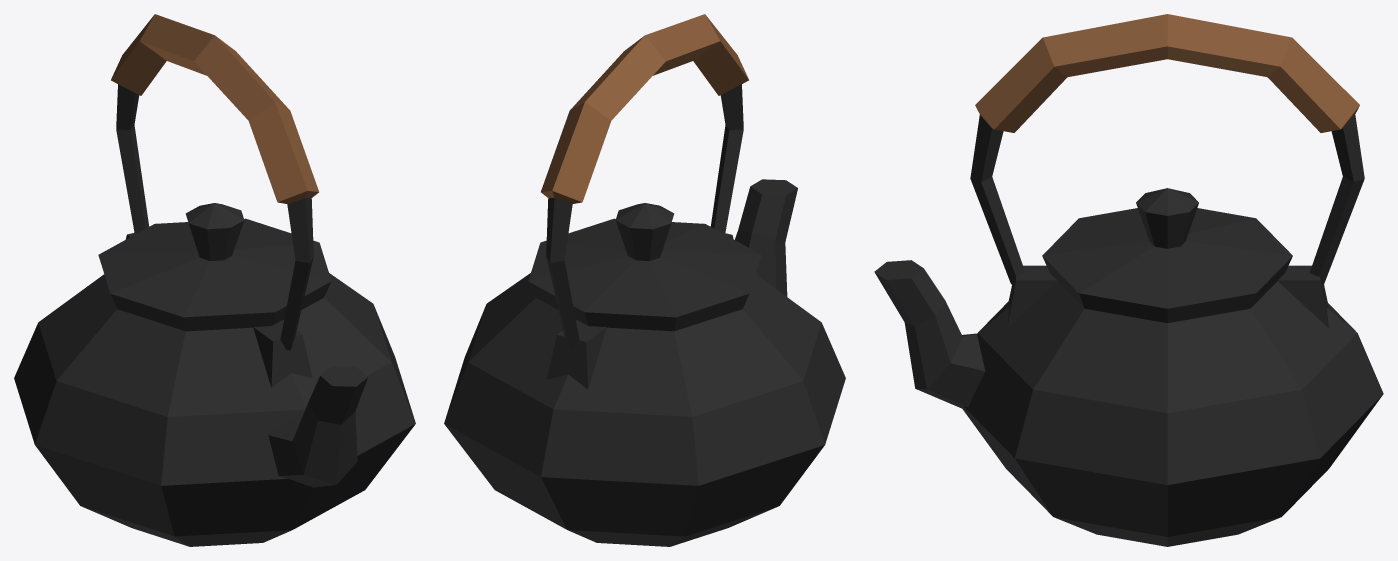
The model's file is food_teapot.fbx.
3 views of the same model, side by side, from view 1: azimuth 30°, elevation 25°; view 2: azimuth 150°, elevation 25°; view 3: azimuth 270°, elevation 25° (orthographic). The views are drawn at different scales.
Visible parts, largest first — view 1: food_teapot; view 2: food_teapot; view 3: food_teapot.
Boxes of the visible parts, bbox=[...] form: food_teapot: bbox=[14, 14, 415, 546]; food_teapot: bbox=[444, 14, 845, 546]; food_teapot: bbox=[874, 14, 1383, 546].
Size of the model in its own units: 157 by 200 by 185.
